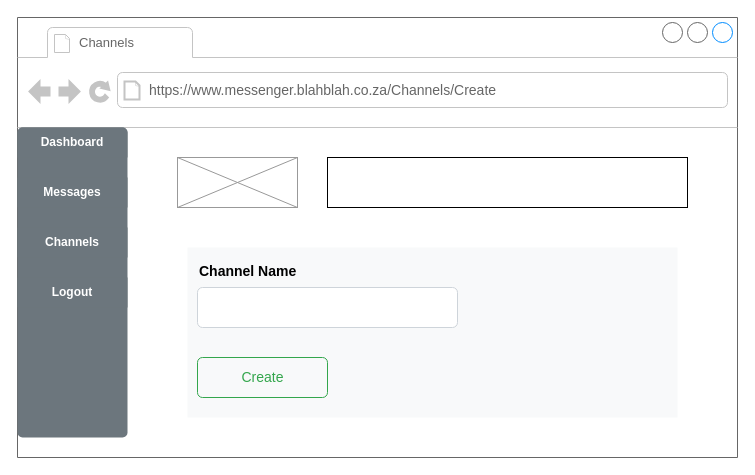
Image size: 755x475. Some labels were removed from this diagram. Each missing label, with the centre of its shape:
"Channel Create Icon" belongs at point 237,182.
"Create Channel Title" belongs at point 507,182.
